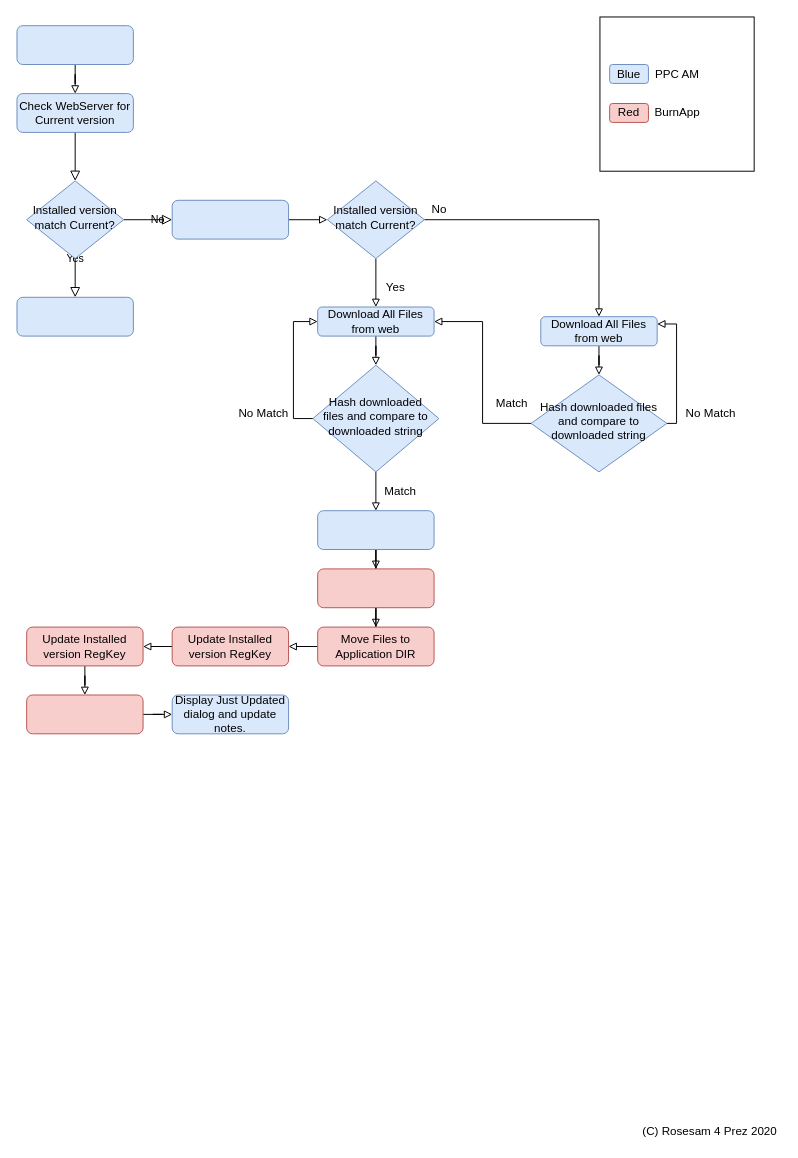
Image size: 798x1158. Some labels were removed from this diagram. Here are the shapes that lost their labels. From the top down, the box of each, then its label:
(16, 25, 133, 65): PPCP AM Loads
(599, 16, 754, 171): KEY ---------------------------------------
(171, 199, 289, 239): Check Installed BurnApp version
(16, 296, 133, 336): Do nothing
(317, 510, 434, 550): Launch BurnApp
(317, 568, 434, 608): Close PPC AM
(26, 694, 143, 734): Launch PPC AM with -JSTUP argument
